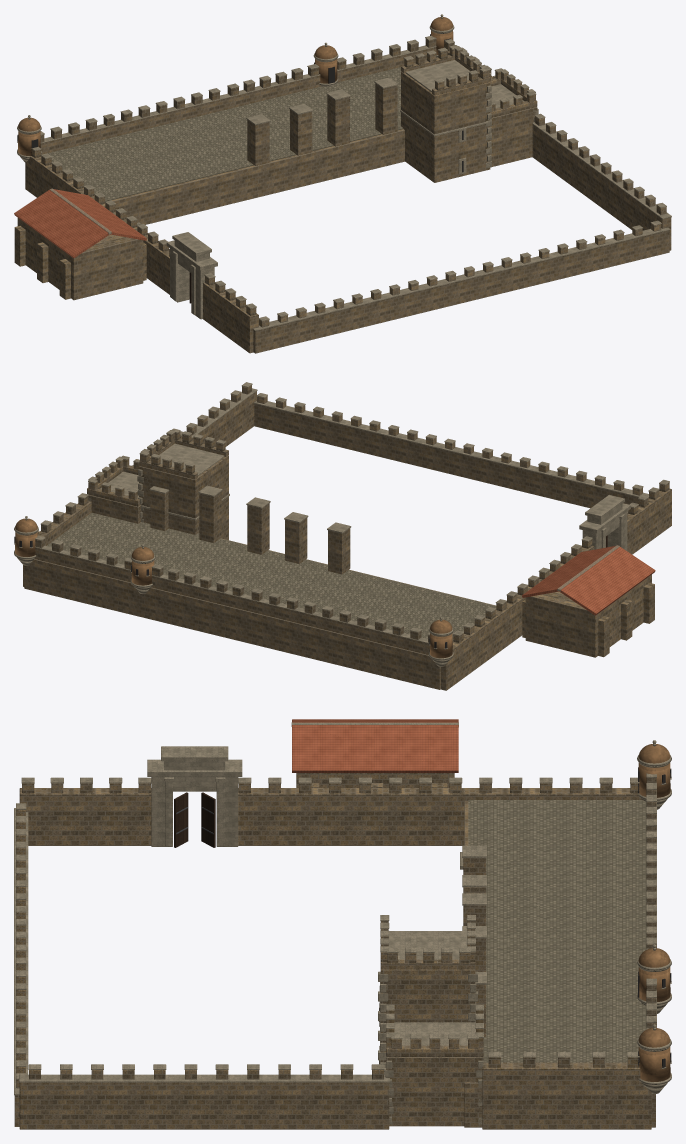
The model's file is fortress_walls_bastions.glb.
The picture shows the model from 3 angles, top to bottom: view 1: azimuth 30°, elevation 25°; view 2: azimuth 150°, elevation 25°; view 3: azimuth 270°, elevation 25°; orthographic projection. The views are drawn at different scales.
Parts seen in each view (by area): view 1: Wall_Colonial_Perimeter_Curtains, Wall_Riverside_Rampart_Stone, Wall_Riverside_Rampart_Paving, Wall_Right_Bastion_And_Battery_Stone, Arch_Puerta_Carlos_III_And_Trim, Arch_Polvorin_Terracotta_Roof, Wall_Right_Bastion_Ashlar_Quoins, Wall_Riverside_Rampart_Ashlar, Arch_Sentry_Garitas_Body_Dome; view 2: Wall_Colonial_Perimeter_Curtains, Wall_Riverside_Rampart_Stone, Wall_Riverside_Rampart_Paving, Wall_Right_Bastion_And_Battery_Stone, Arch_Puerta_Carlos_III_And_Trim, Arch_Polvorin_Terracotta_Roof, Wall_Riverside_Rampart_Ashlar, Wall_Right_Bastion_Ashlar_Quoins, Arch_Sentry_Garitas_Body_Dome, Arch_Sentry_Garitas_Stone_Trim; view 3: Wall_Colonial_Perimeter_Curtains, Wall_Riverside_Rampart_Paving, Arch_Puerta_Carlos_III_And_Trim, Wall_Right_Bastion_And_Battery_Stone, Arch_Polvorin_Terracotta_Roof, Wall_Right_Bastion_Ashlar_Quoins, Wall_Riverside_Rampart_Stone, Arch_Sentry_Garitas_Body_Dome, Wall_Riverside_Rampart_Ashlar, Arch_Puerta_Ebony_Doors, Arch_Sentry_Garitas_Stone_Trim.
Part boxes in pixels (x1,y1,x2,y2): Wall_Colonial_Perimeter_Curtains: [14, 42, 671, 353]; Wall_Riverside_Rampart_Stone: [40, 39, 436, 224]; Wall_Riverside_Rampart_Paving: [48, 67, 403, 201]; Wall_Right_Bastion_And_Battery_Stone: [401, 48, 537, 182]; Arch_Puerta_Carlos_III_And_Trim: [31, 39, 671, 331]; Arch_Polvorin_Terracotta_Roof: [14, 189, 146, 258]; Wall_Right_Bastion_Ashlar_Quoins: [400, 45, 538, 174]; Wall_Riverside_Rampart_Ashlar: [40, 35, 436, 224]; Arch_Sentry_Garitas_Body_Dome: [18, 17, 453, 155]; Wall_Colonial_Perimeter_Curtains: [23, 385, 671, 690]; Wall_Riverside_Rampart_Stone: [24, 490, 495, 689]; Wall_Riverside_Rampart_Paving: [46, 512, 496, 639]; Wall_Right_Bastion_And_Battery_Stone: [87, 431, 228, 540]; Arch_Puerta_Carlos_III_And_Trim: [37, 382, 669, 640]; Arch_Polvorin_Terracotta_Roof: [522, 546, 655, 615]; Wall_Riverside_Rampart_Ashlar: [35, 485, 429, 643]; Wall_Right_Bastion_Ashlar_Quoins: [88, 428, 229, 522]; Arch_Sentry_Garitas_Body_Dome: [15, 518, 452, 658]; Arch_Sentry_Garitas_Stone_Trim: [14, 516, 453, 666]; Wall_Colonial_Perimeter_Curtains: [14, 773, 651, 1129]; Wall_Riverside_Rampart_Paving: [468, 800, 646, 1062]; Arch_Puerta_Carlos_III_And_Trim: [14, 722, 639, 1095]; Wall_Right_Bastion_And_Battery_Stone: [380, 921, 483, 1126]; Arch_Polvorin_Terracotta_Roof: [292, 719, 458, 772]; Wall_Right_Bastion_Ashlar_Quoins: [378, 915, 483, 1124]; Wall_Riverside_Rampart_Stone: [463, 778, 656, 1127]; Arch_Sentry_Garitas_Body_Dome: [638, 744, 670, 1081]; Wall_Riverside_Rampart_Ashlar: [460, 773, 656, 1029]; Arch_Puerta_Ebony_Doors: [174, 792, 215, 847]; Arch_Sentry_Garitas_Stone_Trim: [637, 740, 671, 1094].
Size of the model in its own units: 60.03 by 11.29 by 47.38.
Materials: 8 (6 with a texture image).
